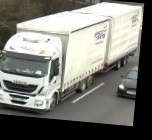car: (117, 65, 138, 98)
